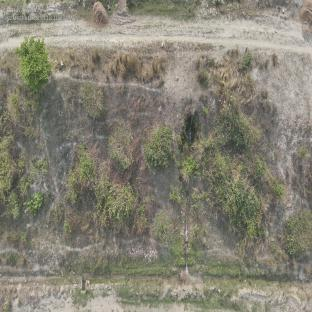rock_toe: (39, 241, 169, 268)
toe_drain: (0, 270, 309, 289)
vegetation: (202, 150, 261, 238), (94, 163, 149, 235), (15, 36, 53, 92), (66, 145, 95, 202), (223, 106, 254, 153), (0, 111, 16, 200), (144, 125, 173, 174), (284, 212, 312, 258), (109, 121, 133, 171), (182, 157, 199, 179), (203, 135, 215, 148)
